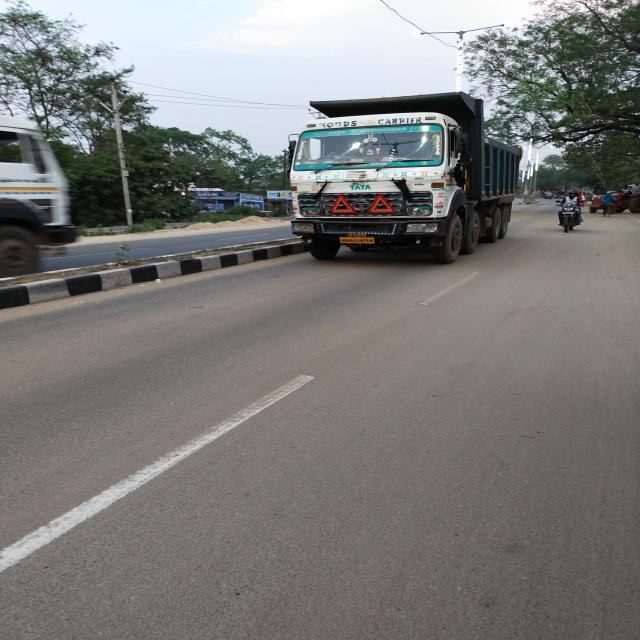Bike: (541, 190, 589, 242)
Truck: (272, 92, 530, 256)
